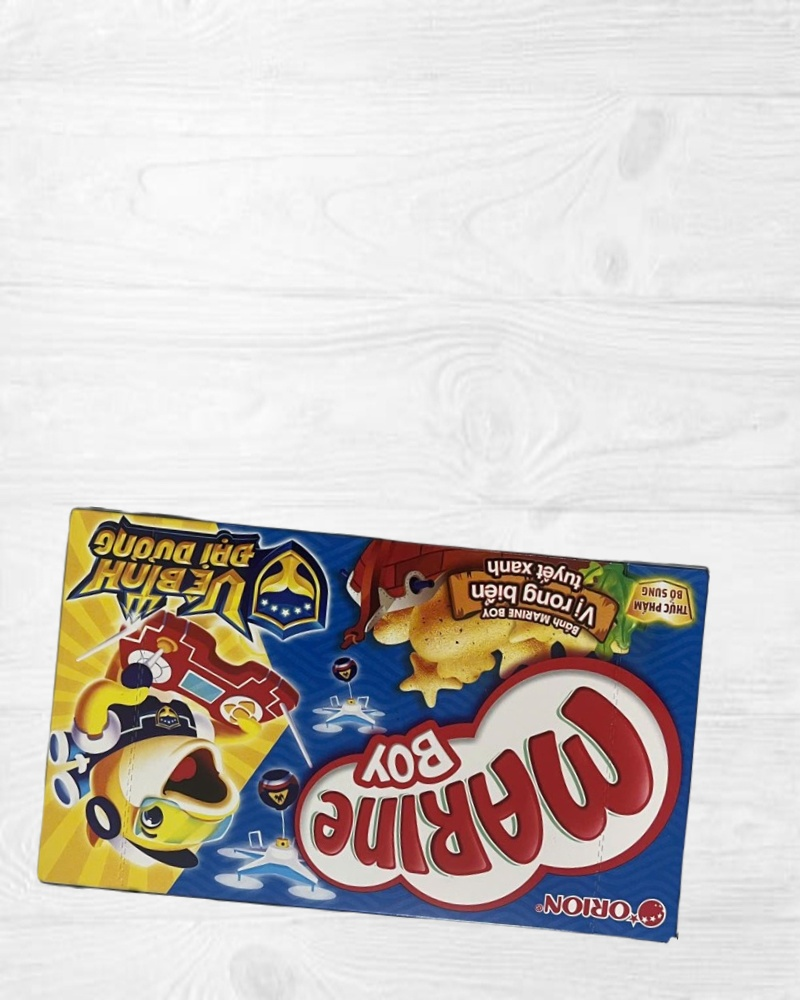Marine: (35, 507, 711, 944)
